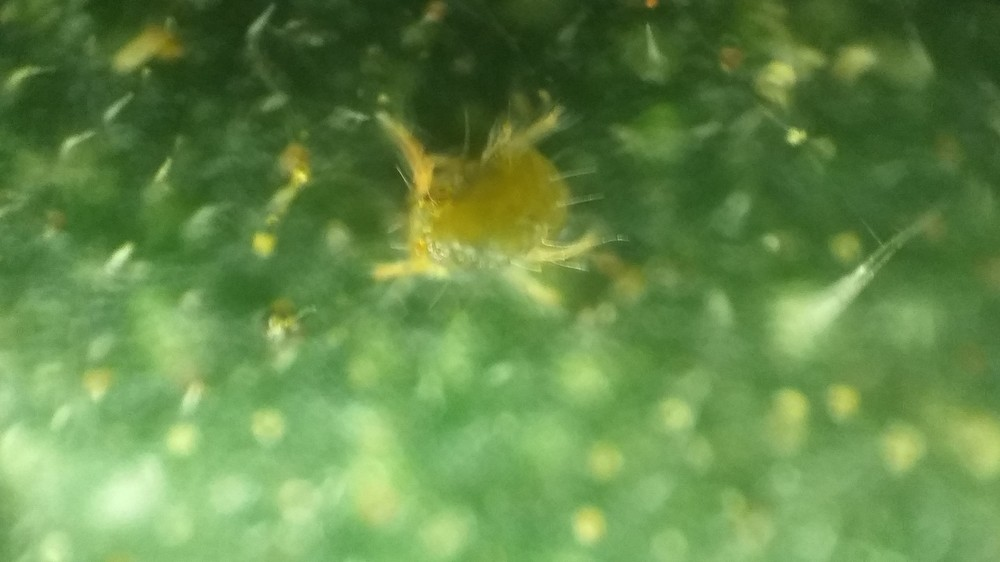Aracnido Rojo: (341, 97, 639, 313)
